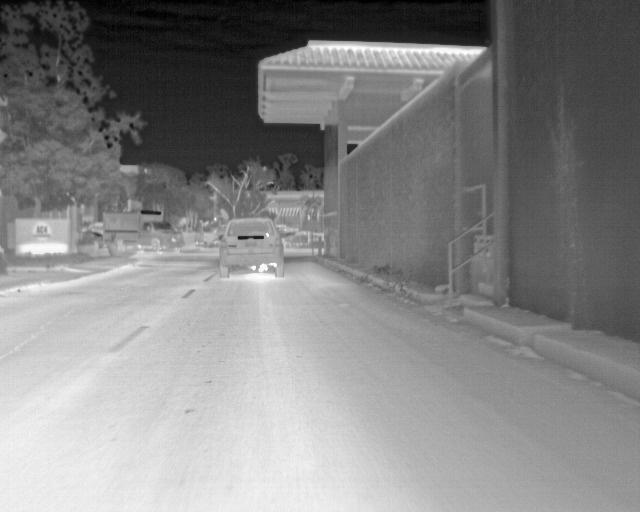car: (218, 218, 285, 280), (281, 229, 310, 248), (203, 226, 217, 246), (84, 233, 103, 247), (88, 220, 102, 233)
